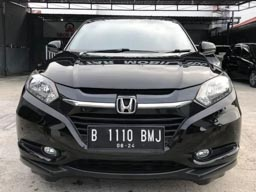plat: (88, 125, 164, 143)
